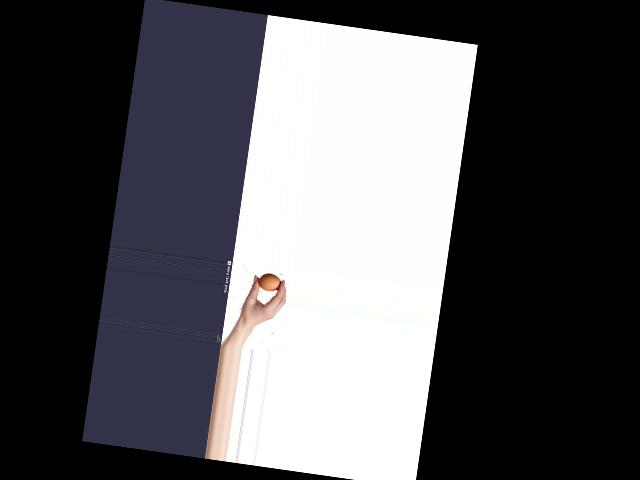egg: (256, 272, 281, 293)
